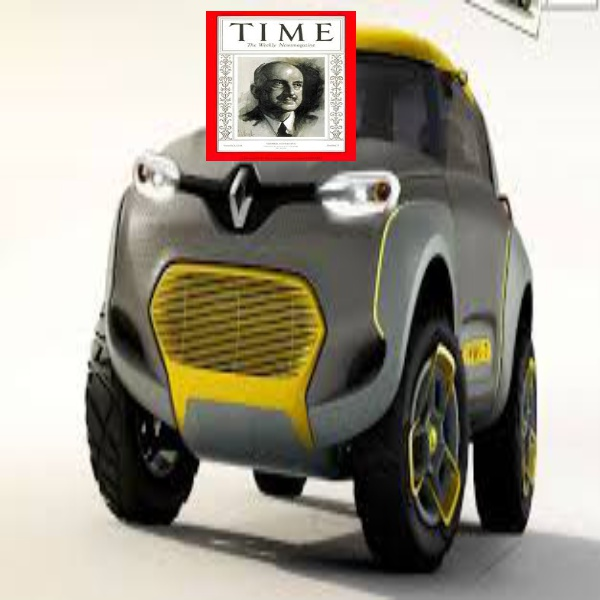time_cover: (203, 7, 360, 163)
